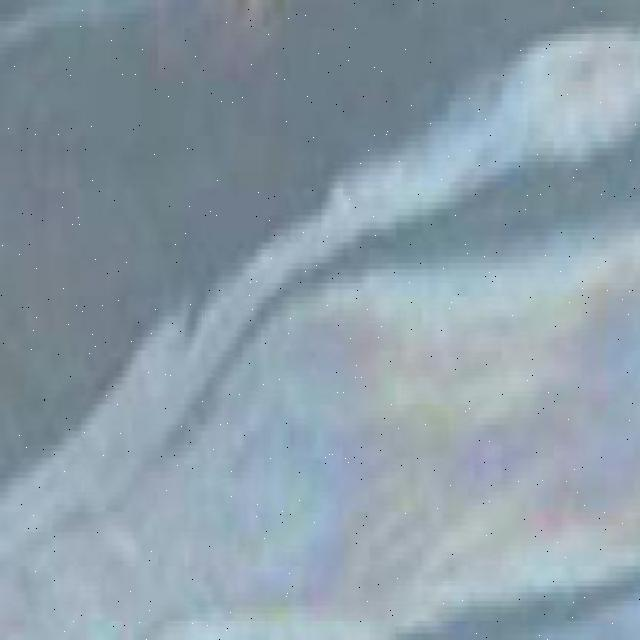sheen: (2, 31, 640, 640)
